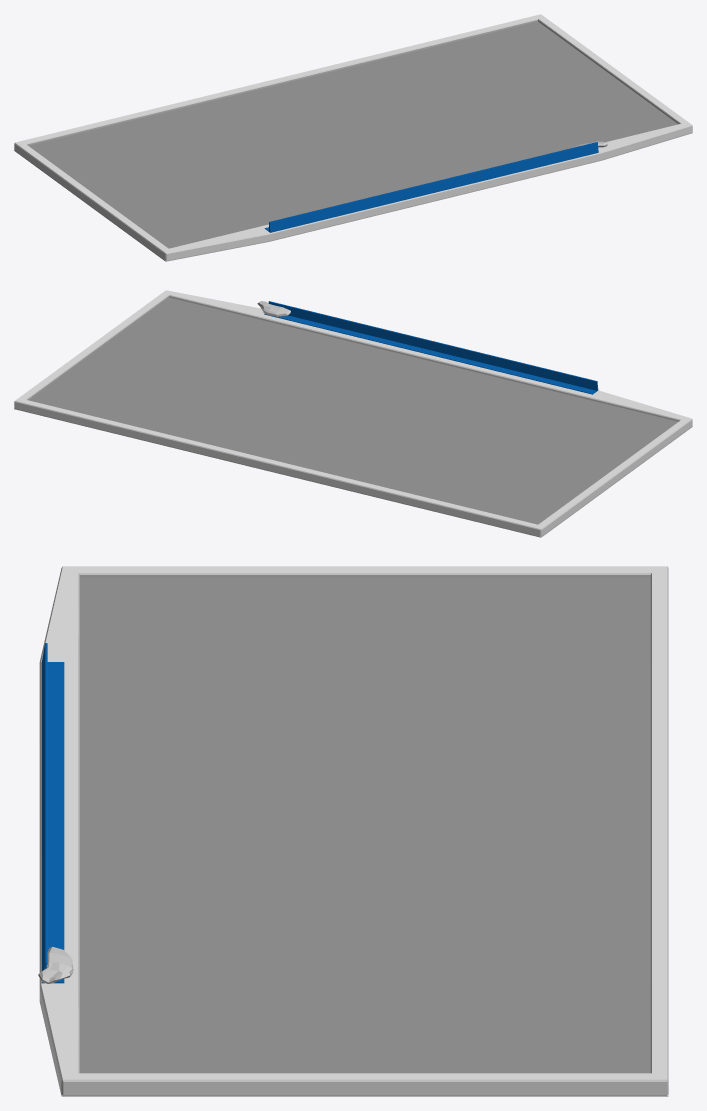
Rendered from WhiteBoardNew.FBX.
The picture shows the model from 3 angles, top to bottom: view 1: azimuth 30°, elevation 25°; view 2: azimuth 150°, elevation 25°; view 3: azimuth 270°, elevation 25°; orthographic projection. The views are drawn at different scales.
Visible parts, largest first — view 1: _WhiteBoard, Plane001; view 2: _WhiteBoard, Plane001; view 3: _WhiteBoard, Plane001, rag.
Boxes of the visible parts, <box> form: _WhiteBoard: <box>28,21,677,248</box>; Plane001: <box>14,14,692,261</box>; _WhiteBoard: <box>29,297,678,524</box>; Plane001: <box>14,290,692,537</box>; _WhiteBoard: <box>79,578,650,1073</box>; Plane001: <box>39,566,668,1096</box>; rag: <box>38,946,73,983</box>.
Size of the model in its own units: 139 by 71.85 by 4.58.
